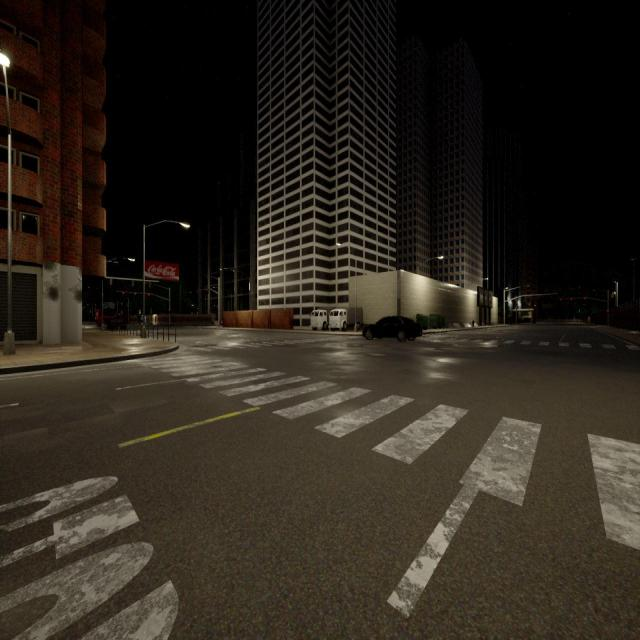Pedestrian: (472, 319, 475, 328)
Vehicle: (362, 315, 424, 342), (329, 307, 364, 331), (310, 307, 332, 330), (96, 309, 120, 327), (106, 318, 128, 331)
traffic_light: (168, 308, 170, 314), (206, 288, 208, 294), (607, 309, 609, 314), (583, 297, 586, 300), (122, 292, 124, 296), (560, 298, 562, 302), (148, 292, 150, 296), (134, 292, 136, 295), (570, 298, 572, 300)
